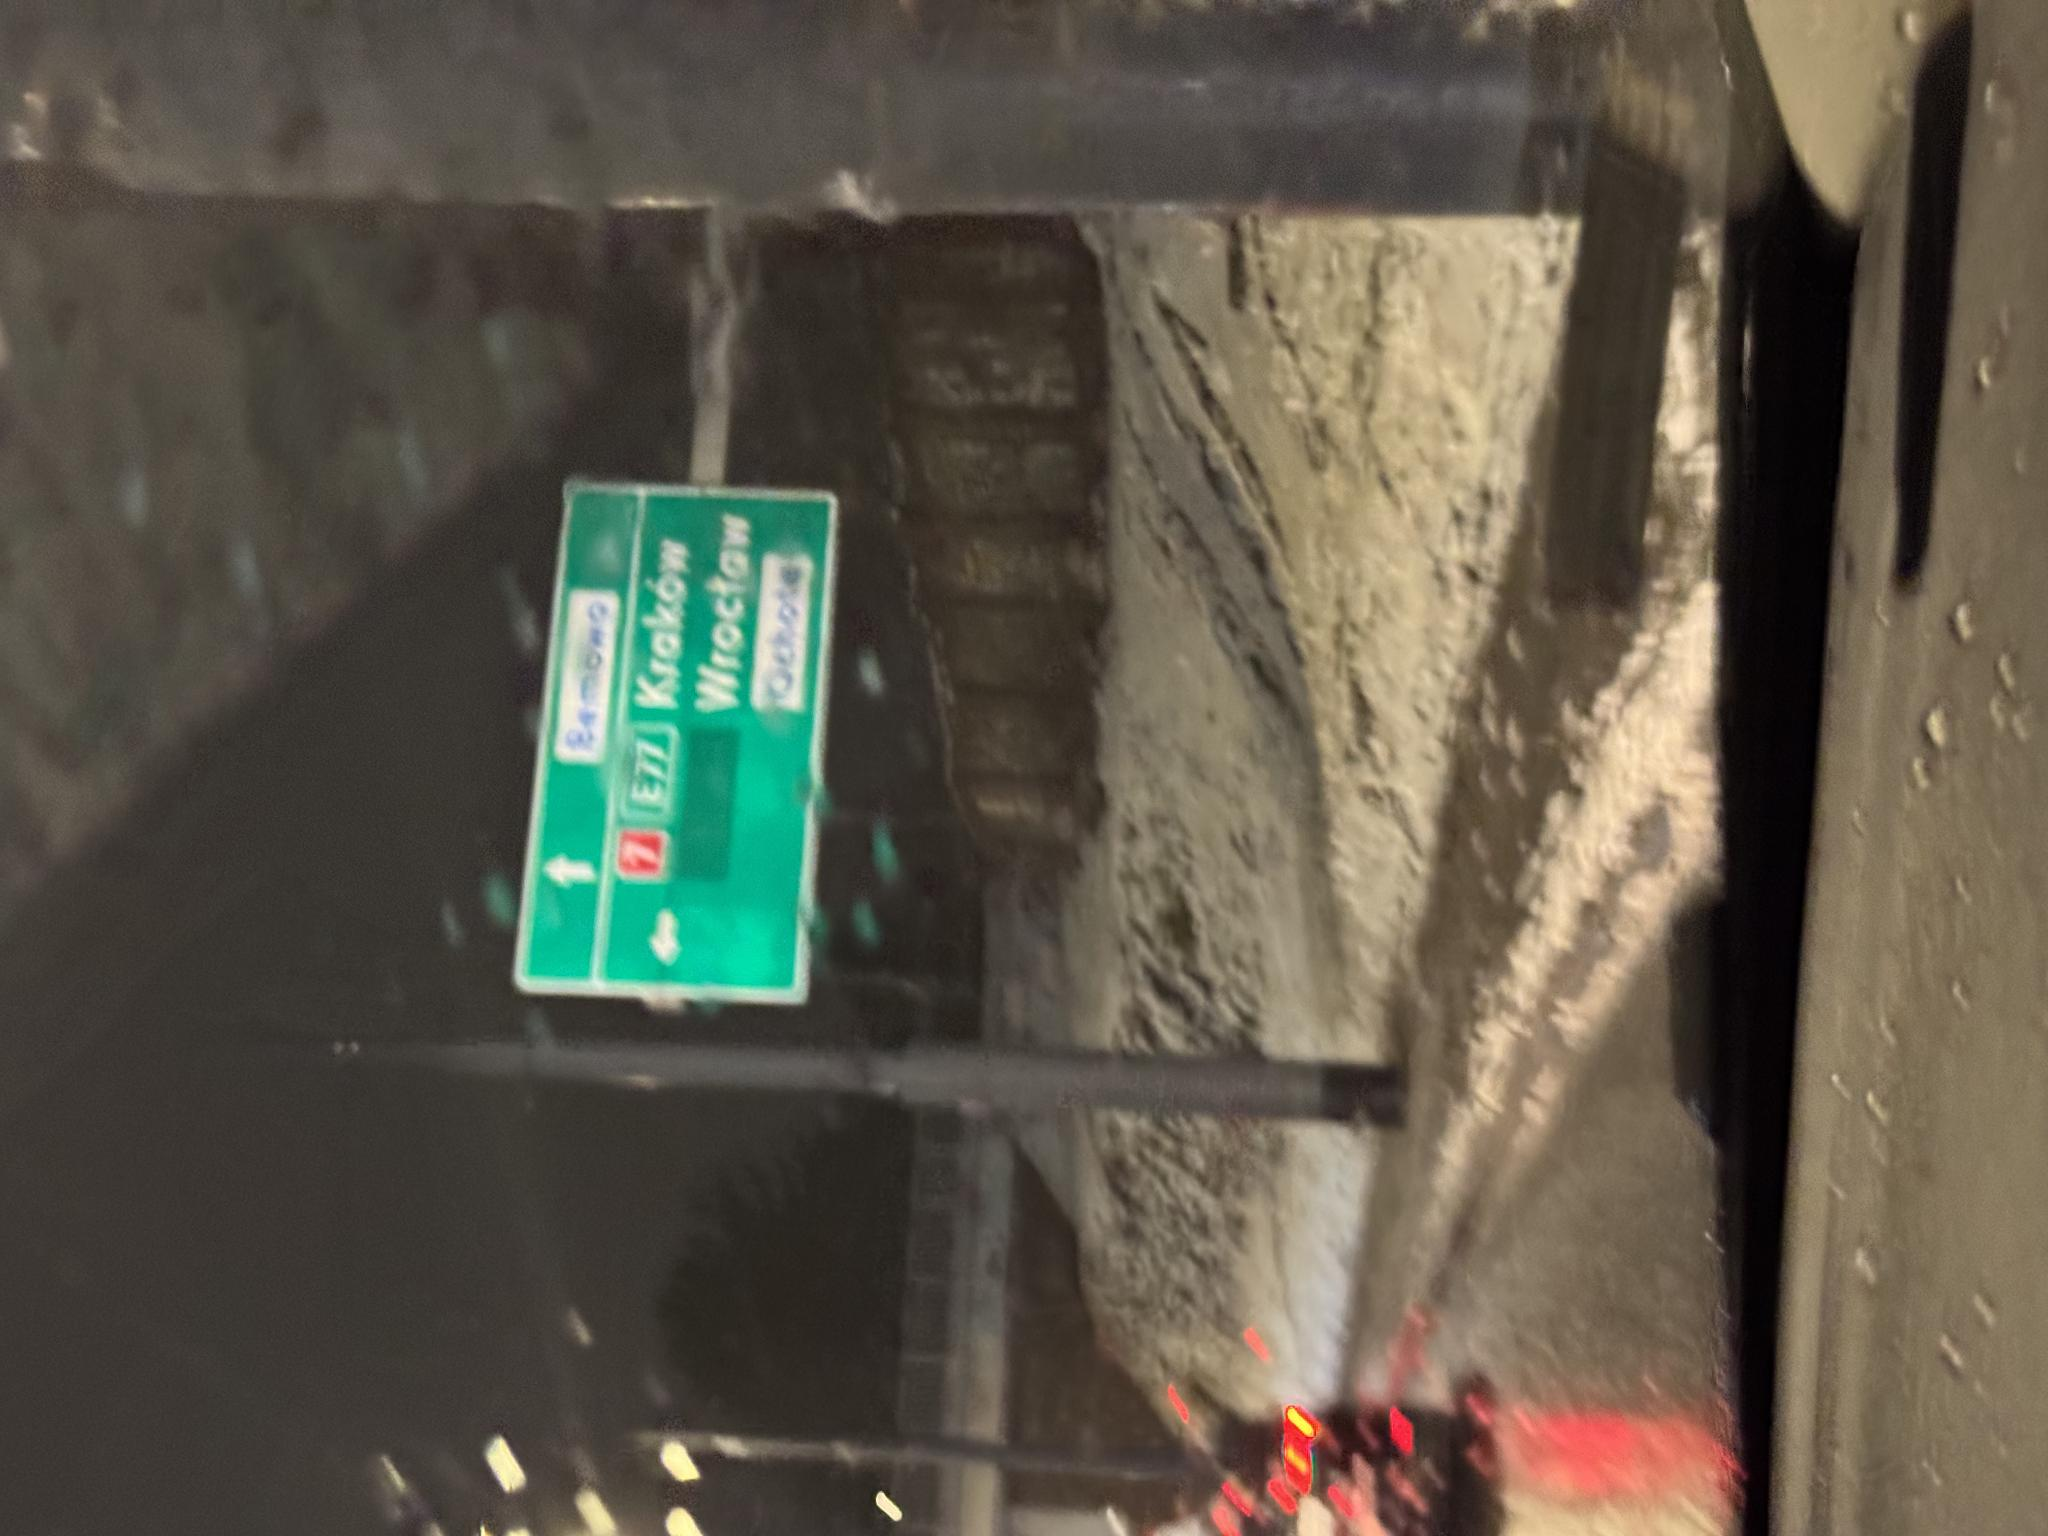direction-city: (535, 513, 1055, 841)
